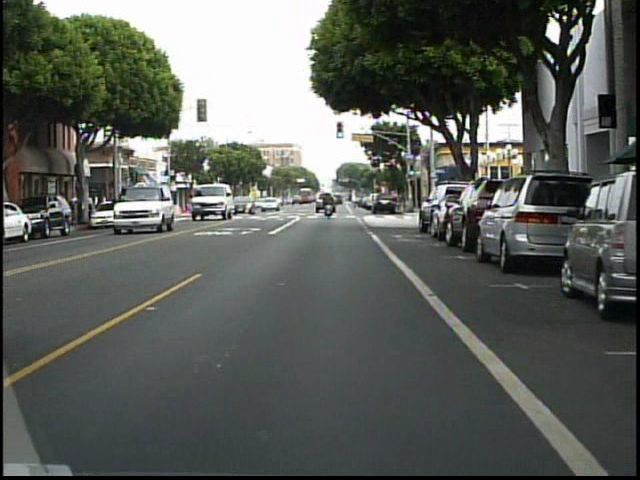person: (320, 191, 336, 220)
